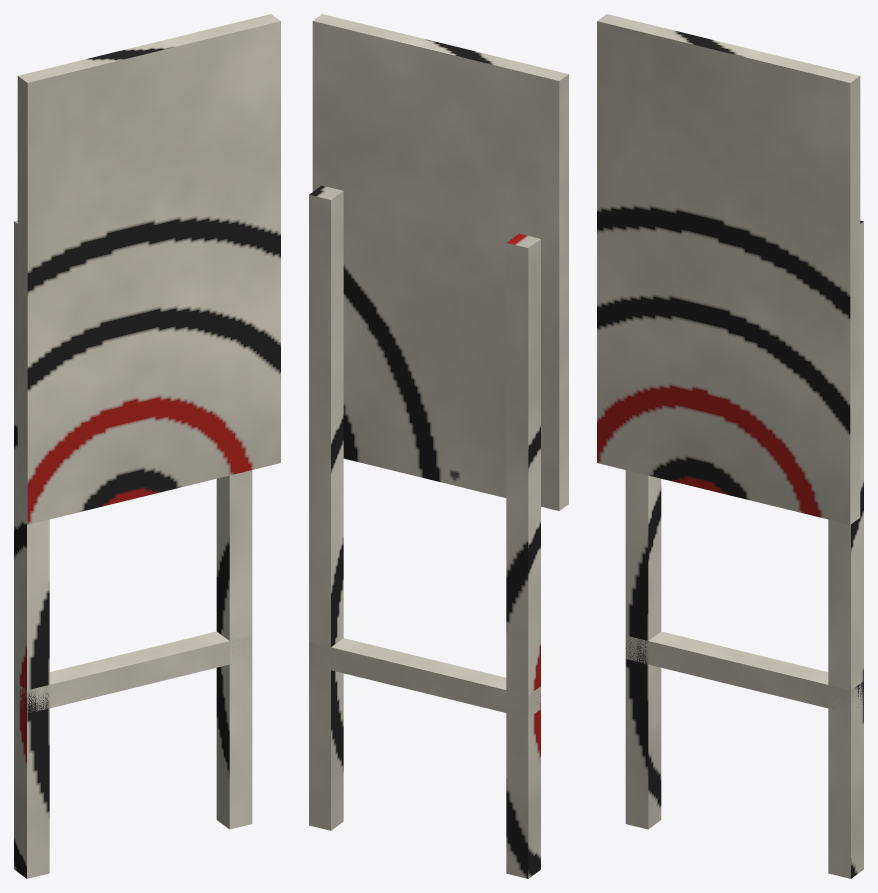
File: chest_target.glb
The picture shows the model from 3 angles, left to right: view 1: azimuth 30°, elevation 25°; view 2: azimuth 150°, elevation 25°; view 3: azimuth 330°, elevation 25°; orthographic projection. The views are drawn at different scales.
Visible parts, largest first — view 1: chest_target; view 2: chest_target; view 3: chest_target.
Boxes of the visible parts, x1,y1,x2,y2 form: chest_target: [14, 14, 280, 878]; chest_target: [309, 14, 568, 878]; chest_target: [597, 14, 863, 878].
Bounding box in the file's own units: 0.45 × 1.38 × 0.085.
1 material, 1 textured.
